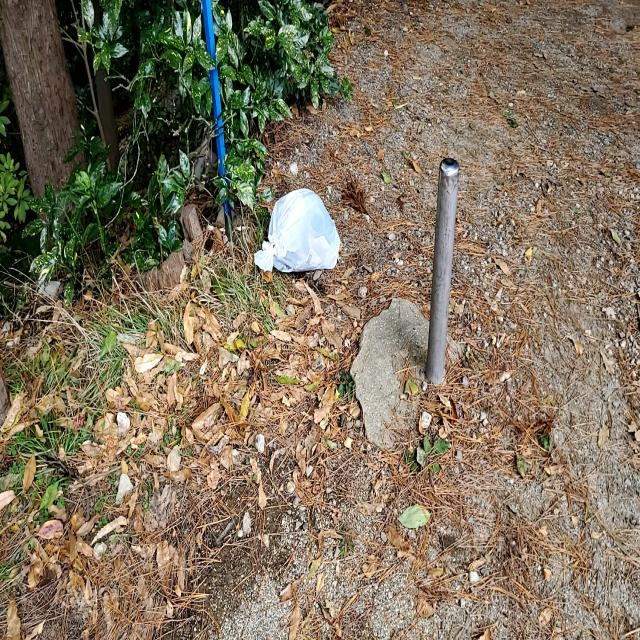garbage bag: (252, 186, 340, 276)
